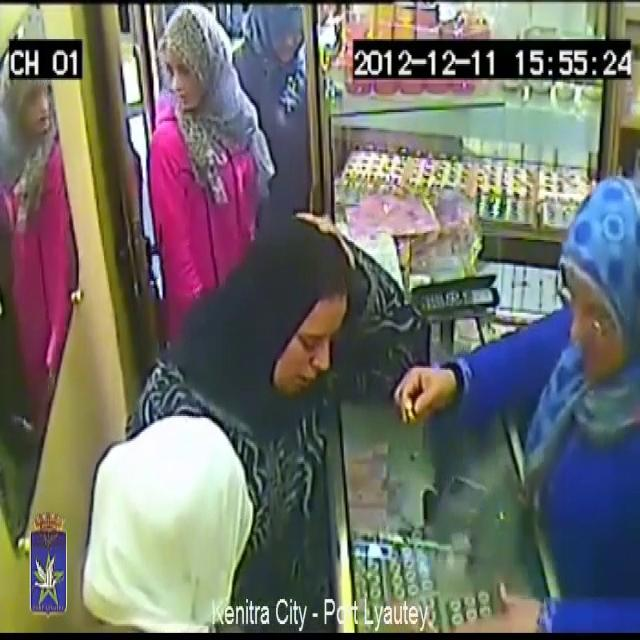Product: (394, 390, 422, 435)
normal: (76, 404, 344, 640), (133, 2, 246, 317), (211, 214, 342, 432), (228, 0, 314, 192)
shoplifting: (411, 199, 640, 640)
